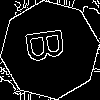B: (25, 25, 75, 64)
